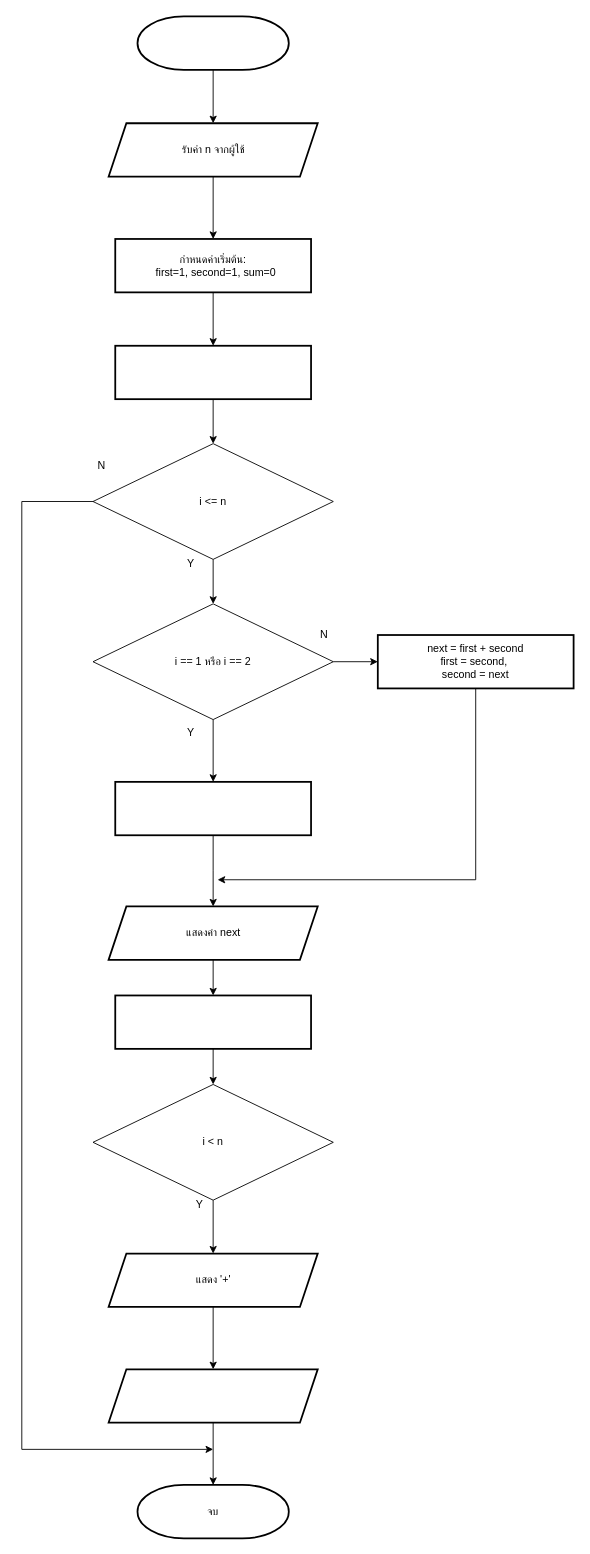
Some shapes in this 590 by 1554 pixel diagram are drawn without their labels. The shapes that lost their labels are listed below. From the top down, each one's centre as x and y in pixels, then its label:
point (212, 42): เริ่ม
point (213, 372): i=1
point (213, 808): next = 1
point (213, 1021): บวก next ลงใน sum
point (212, 1395): พิมพ์ "Sum = ผลรวม"
